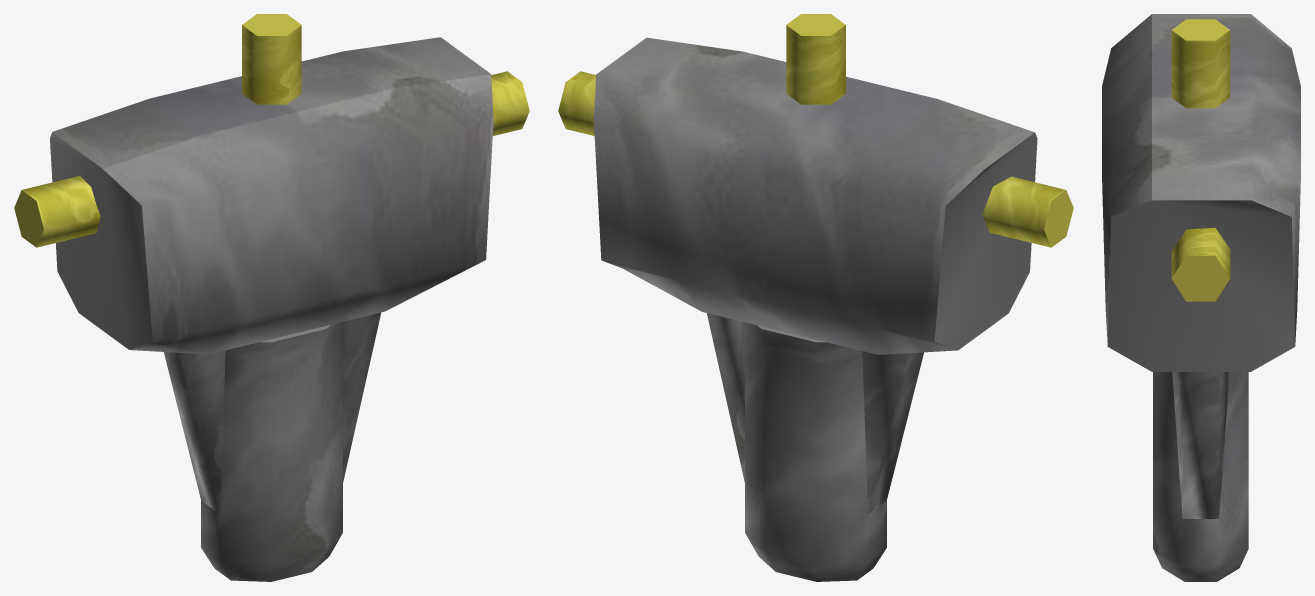
The model's file is rect_torso.gltf.
The picture shows the model from 3 angles, left to right: view 1: azimuth 30°, elevation 25°; view 2: azimuth 150°, elevation 25°; view 3: azimuth 270°, elevation 25°; orthographic projection.
Visible parts, largest first — view 1: Mesh_2, Mesh_3, Mesh_4, Mesh_1, Mesh_0; view 2: Mesh_2, Mesh_3, Mesh_4, Mesh_1, Mesh_0; view 3: Mesh_2, Mesh_3, Mesh_4, Mesh_0, Mesh_1.
Boxes of the visible parts, x1,y1,x2,y2 form: Mesh_2: (50,37,493,354); Mesh_3: (201,321,344,581); Mesh_4: (164,312,381,513); Mesh_1: (14,71,529,247); Mesh_0: (242,14,301,104); Mesh_2: (593,37,1037,354); Mesh_3: (743,322,886,581); Mesh_4: (707,313,923,513); Mesh_1: (558,71,1073,247); Mesh_0: (786,14,845,104); Mesh_2: (1102,14,1300,371); Mesh_3: (1153,372,1248,581); Mesh_4: (1172,372,1229,518); Mesh_0: (1171,19,1230,108); Mesh_1: (1171,227,1230,301).
Bounding box in the file's own units: 0.5399 × 0.5711 × 0.1948.
2 materials, 2 textured.
